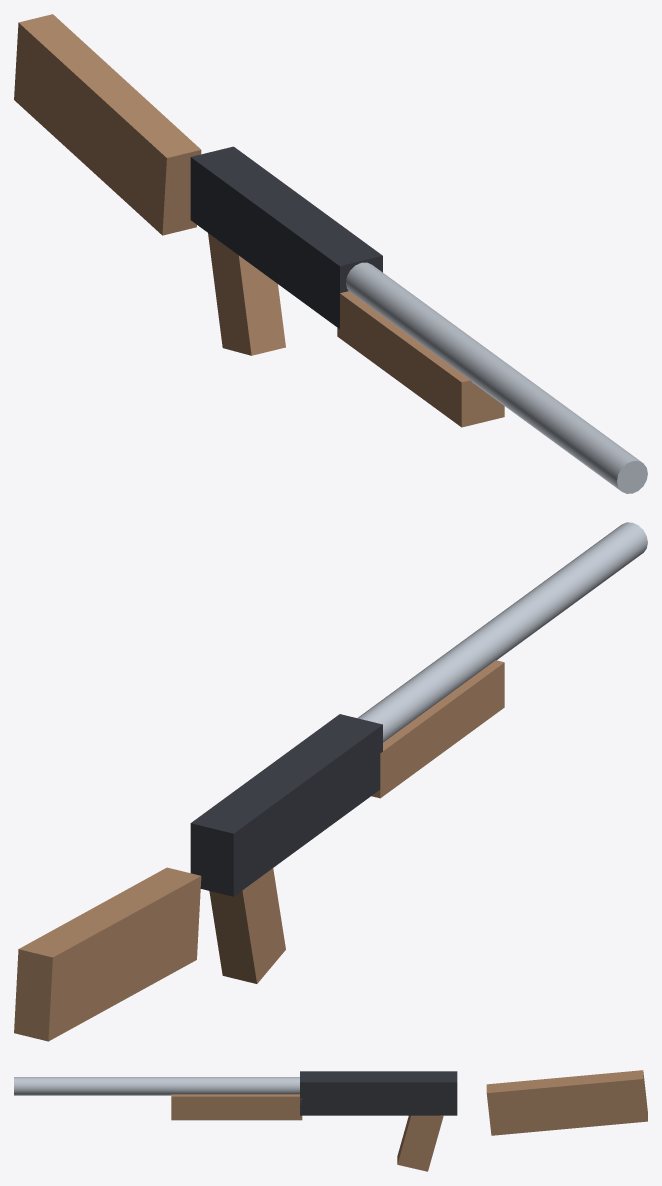
File: shotgun.glb
The picture shows the model from 3 angles, top to bottom: view 1: azimuth 30°, elevation 25°; view 2: azimuth 150°, elevation 25°; view 3: azimuth 270°, elevation 25°; orthographic projection. The views are drawn at different scales.
Visible parts, largest first — view 1: box (×4), cyl; view 2: box (×4), cyl; view 3: box (×4), cyl.
Part boxes in pixels (<box>): box (×4): <box>14,14,504,427</box>; cyl: <box>346,262,647,493</box>; box (×4): <box>14,660,504,1041</box>; cyl: <box>357,522,647,742</box>; box (×4): <box>171,1070,647,1171</box>; cyl: <box>14,1077,299,1095</box>.
Bounding box in the file's own units: 0.05 × 0.1953 × 1.21.
